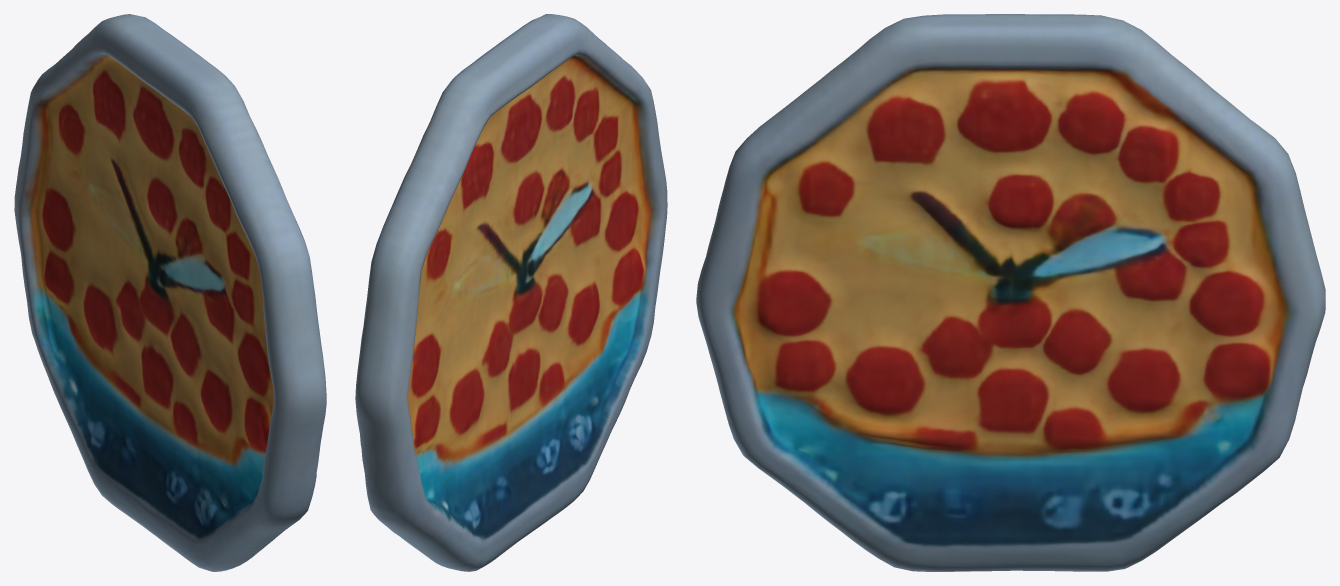
Rendered from 91b6191aea87_e29d3620d146_underwater_pizza_cl.glb.
3 views of the same model, side by side, from view 1: azimuth 30°, elevation 25°; view 2: azimuth 150°, elevation 25°; view 3: azimuth 270°, elevation 25° (orthographic). The views are drawn at different scales.
Visible parts, largest first — view 1: mesh; view 2: mesh; view 3: mesh.
Boxes of the visible parts, x1,y1,x2,y2 form: mesh: [14, 14, 326, 571]; mesh: [355, 14, 667, 571]; mesh: [696, 14, 1325, 571].
Size of the model in its own units: 0.1079 by 0.9518 by 0.9982.
1 material, 1 textured.
